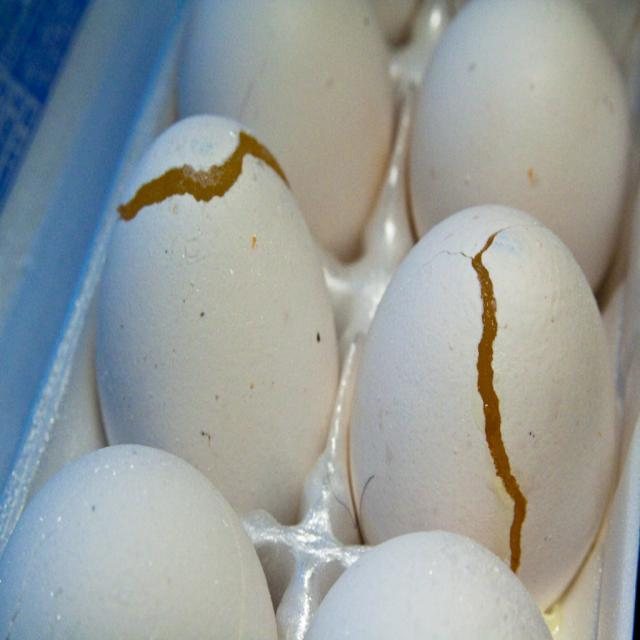Egg: (0, 0, 632, 639), (91, 111, 342, 534)
